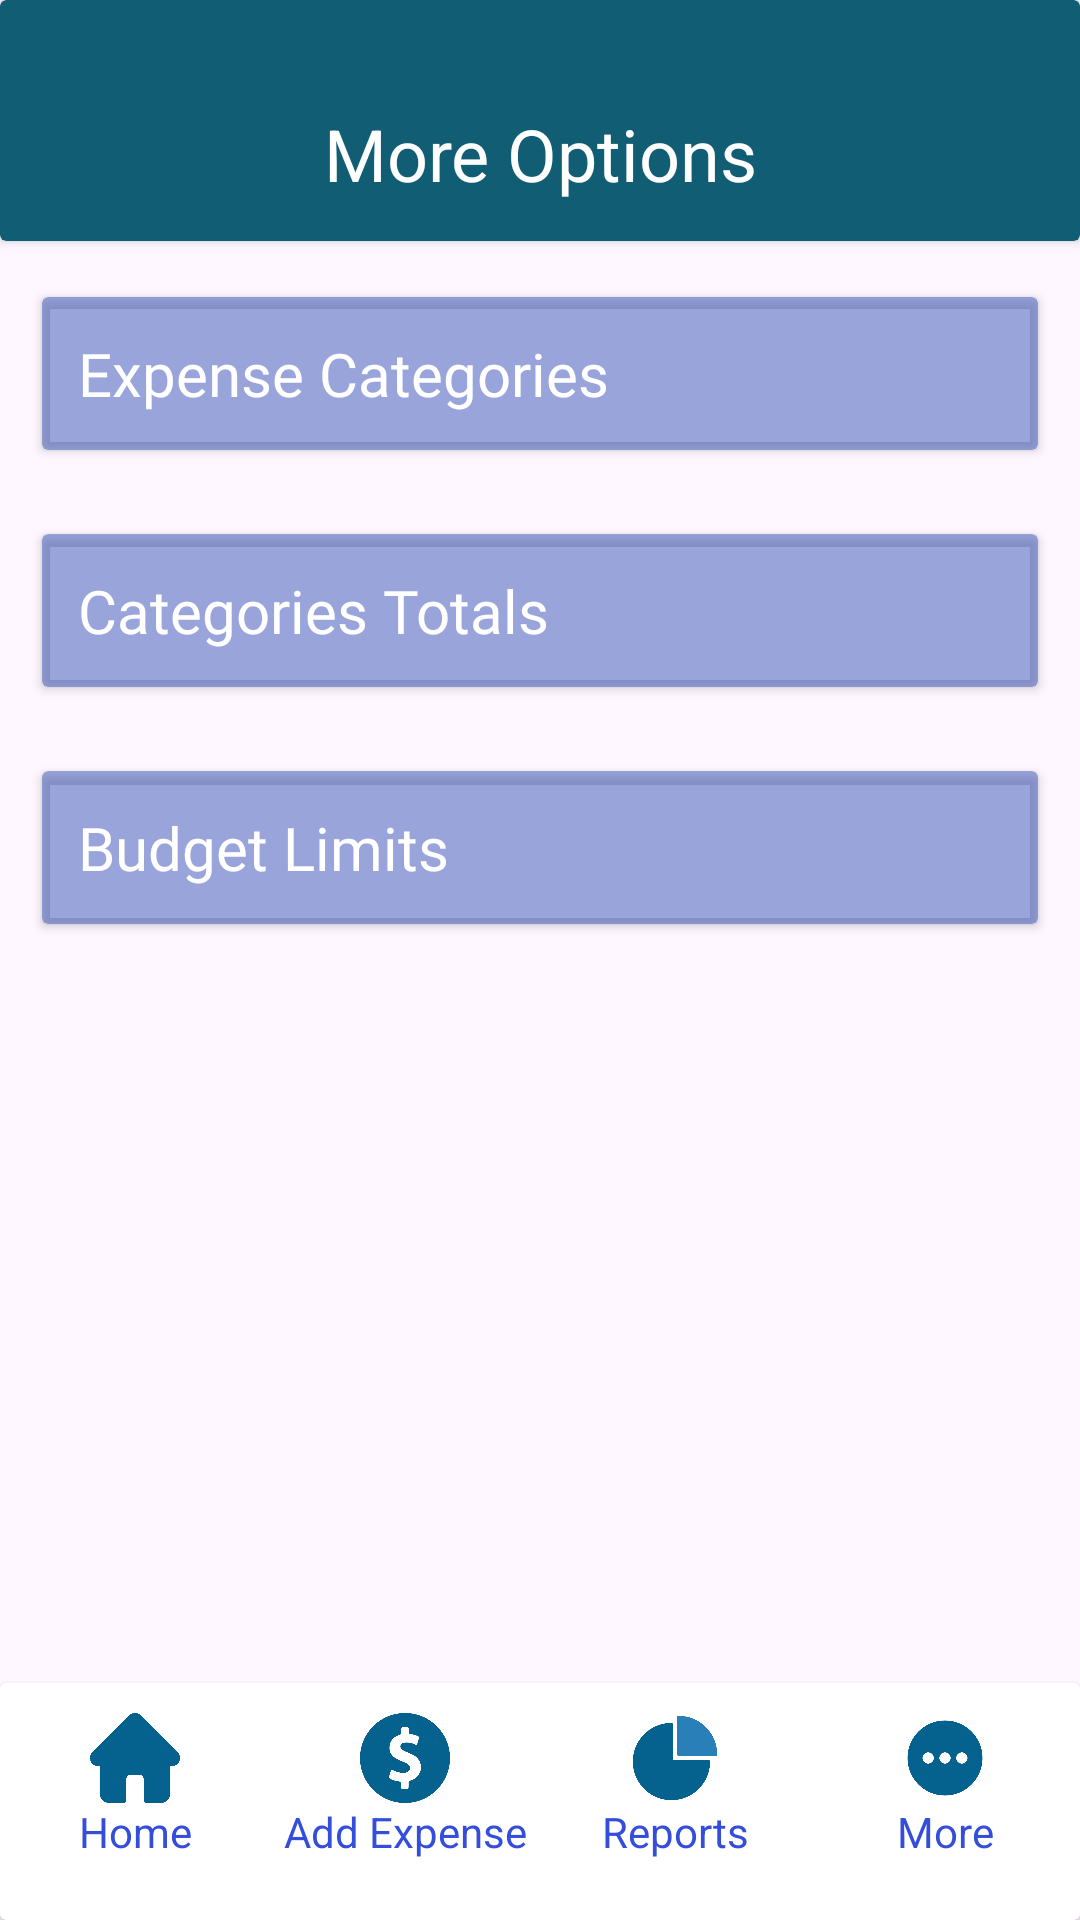

Point at icon controls on the screen. Image size 1080x1920, points as (x=x, y=y).
coin: (x=405, y=1758)
piechartanalytics: (x=675, y=1758)
